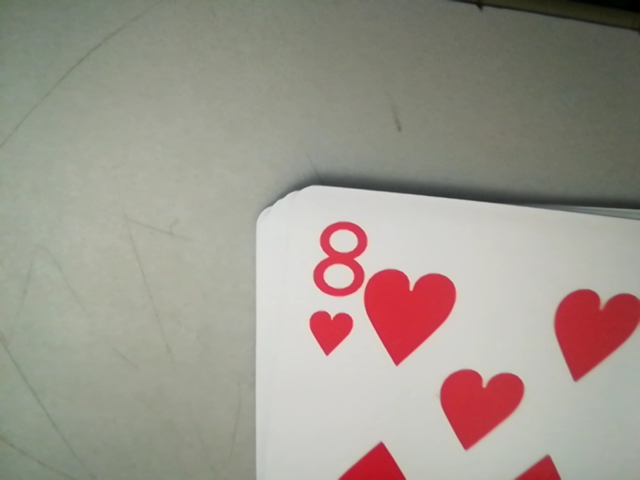hx 8: (292, 216, 365, 360)
